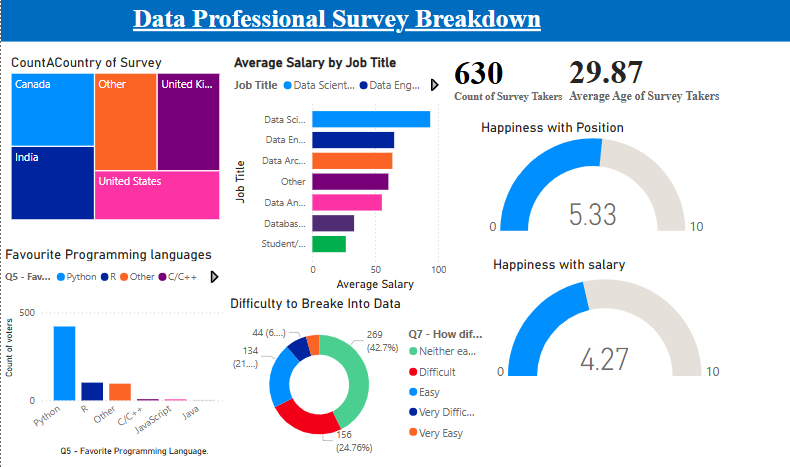

What the dashboard file says about the page in this screenshot:
{"tool":"powerbi","page":{"name":"Page 1","canvas":[1280,720],"ordinal":0},"visuals":[{"type":"textbox","box":[0,0,1280,52],"z":0},{"type":"multiRowCard","fields":{"Values":["Data Professional Survey.Unique ID"]},"box":[561,63,157,85],"z":1000},{"type":"multiRowCard","fields":{"Values":["Avg(Data Professional Survey.Q10 - Current Age)"]},"box":[705,61,203,87],"z":2000},{"type":"barChart","title":"Average Salary by Job Title","fields":{"Category":["Data Professional Survey.Q1 - Which Title Best Fits your Current Role?.1"],"Y":["Avg(Data Professional Survey.Average_Salary)"],"Series":["Data Professional Survey.Q1 - Which Title Best Fits your Current Role?.1"]},"box":[286,68,275,301],"z":3000},{"type":"columnChart","title":"Favourite Programming languages","fields":{"Category":["Data Professional Survey.Q5 - Favorite Programming Language.1"],"Y":["CountNonNull(Data Professional Survey.Unique ID)"],"Series":["Data Professional Survey.Q5 - Favorite Programming Language.1"]},"box":[0,307,286,267],"z":4000},{"type":"treemap","title":"CountACountry of Survey","fields":{"Group":["Data Professional Survey.Q11 - Which Country do you live in?.1"],"Values":["Count(Data Professional Survey.Q11 - Which Country do you live in?.1)"]},"box":[8,68,271,212],"z":5000},{"type":"gauge","title":"Happiness with Position","fields":{"Y":["Avg(Data Professional Survey.Q6 - How Happy are you in your Current Position with the following? (Management))"],"MinValue":["Min(Data Professional Survey.Q6 - How Happy are you in your Current Position with the following? (Management))1"],"MaxValue":["Max(Data Professional Survey.Q6 - How Happy are you in your Current Position with the following? (Management))2"]},"box":[610,148,298,150],"z":5001},{"type":"gauge","title":"Happiness with salary","fields":{"Y":["Avg(Data Professional Survey.Q6 - How Happy are you in your Current Position with the following? (Salary))"],"MinValue":["Min(Data Professional Survey.Q6 - How Happy are you in your Current Position with the following? (Salary))"],"MaxValue":["Max(Data Professional Survey.Q6 - How Happy are you in your Current Position with the following? (Salary))"]},"box":[610,320,298,165],"z":5002},{"type":"donutChart","title":"Difficulty to Breake Into Data","fields":{"Category":["Data Professional Survey.Q7 - How difficult was it for you to break into Data?"],"Y":["CountNonNull(Data Professional Survey.Q7 - How difficult was it for you to break into Data?)"]},"box":[281,369,329,205],"z":5003}]}

Visuals, with their boxes on the page's 1280x720 design canvas (x1, y1, x2, y2). These are canvas units, not pixel positions in the 790x467 screenshot, which may show the page scaled, cropped or inside an application window:
textbox: [0, 0, 1280, 52]
multiRowCard - Data Professional Survey.Unique ID: [561, 63, 718, 148]
multiRowCard - Avg(Data Professional Survey.Q10 - Current Age): [705, 61, 908, 148]
"Average Salary by Job Title" barChart: [286, 68, 561, 369]
"Favourite Programming languages" columnChart: [0, 307, 286, 574]
"CountACountry of Survey" treemap: [8, 68, 279, 280]
"Happiness with Position" gauge: [610, 148, 908, 298]
"Happiness with salary" gauge: [610, 320, 908, 485]
"Difficulty to Breake Into Data" donutChart: [281, 369, 610, 574]
